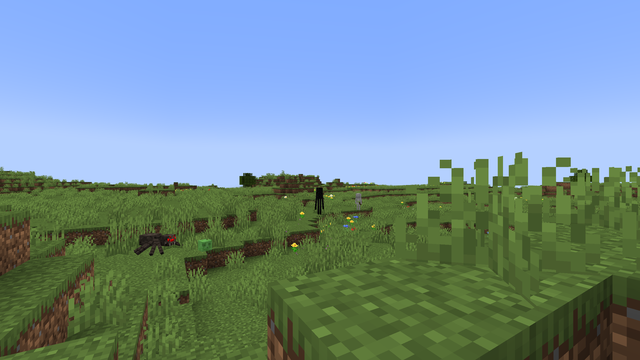araignees: (142, 229, 175, 255)
endermens: (315, 186, 322, 214)
slimes: (199, 238, 211, 251)
squelettes: (354, 193, 361, 210)
